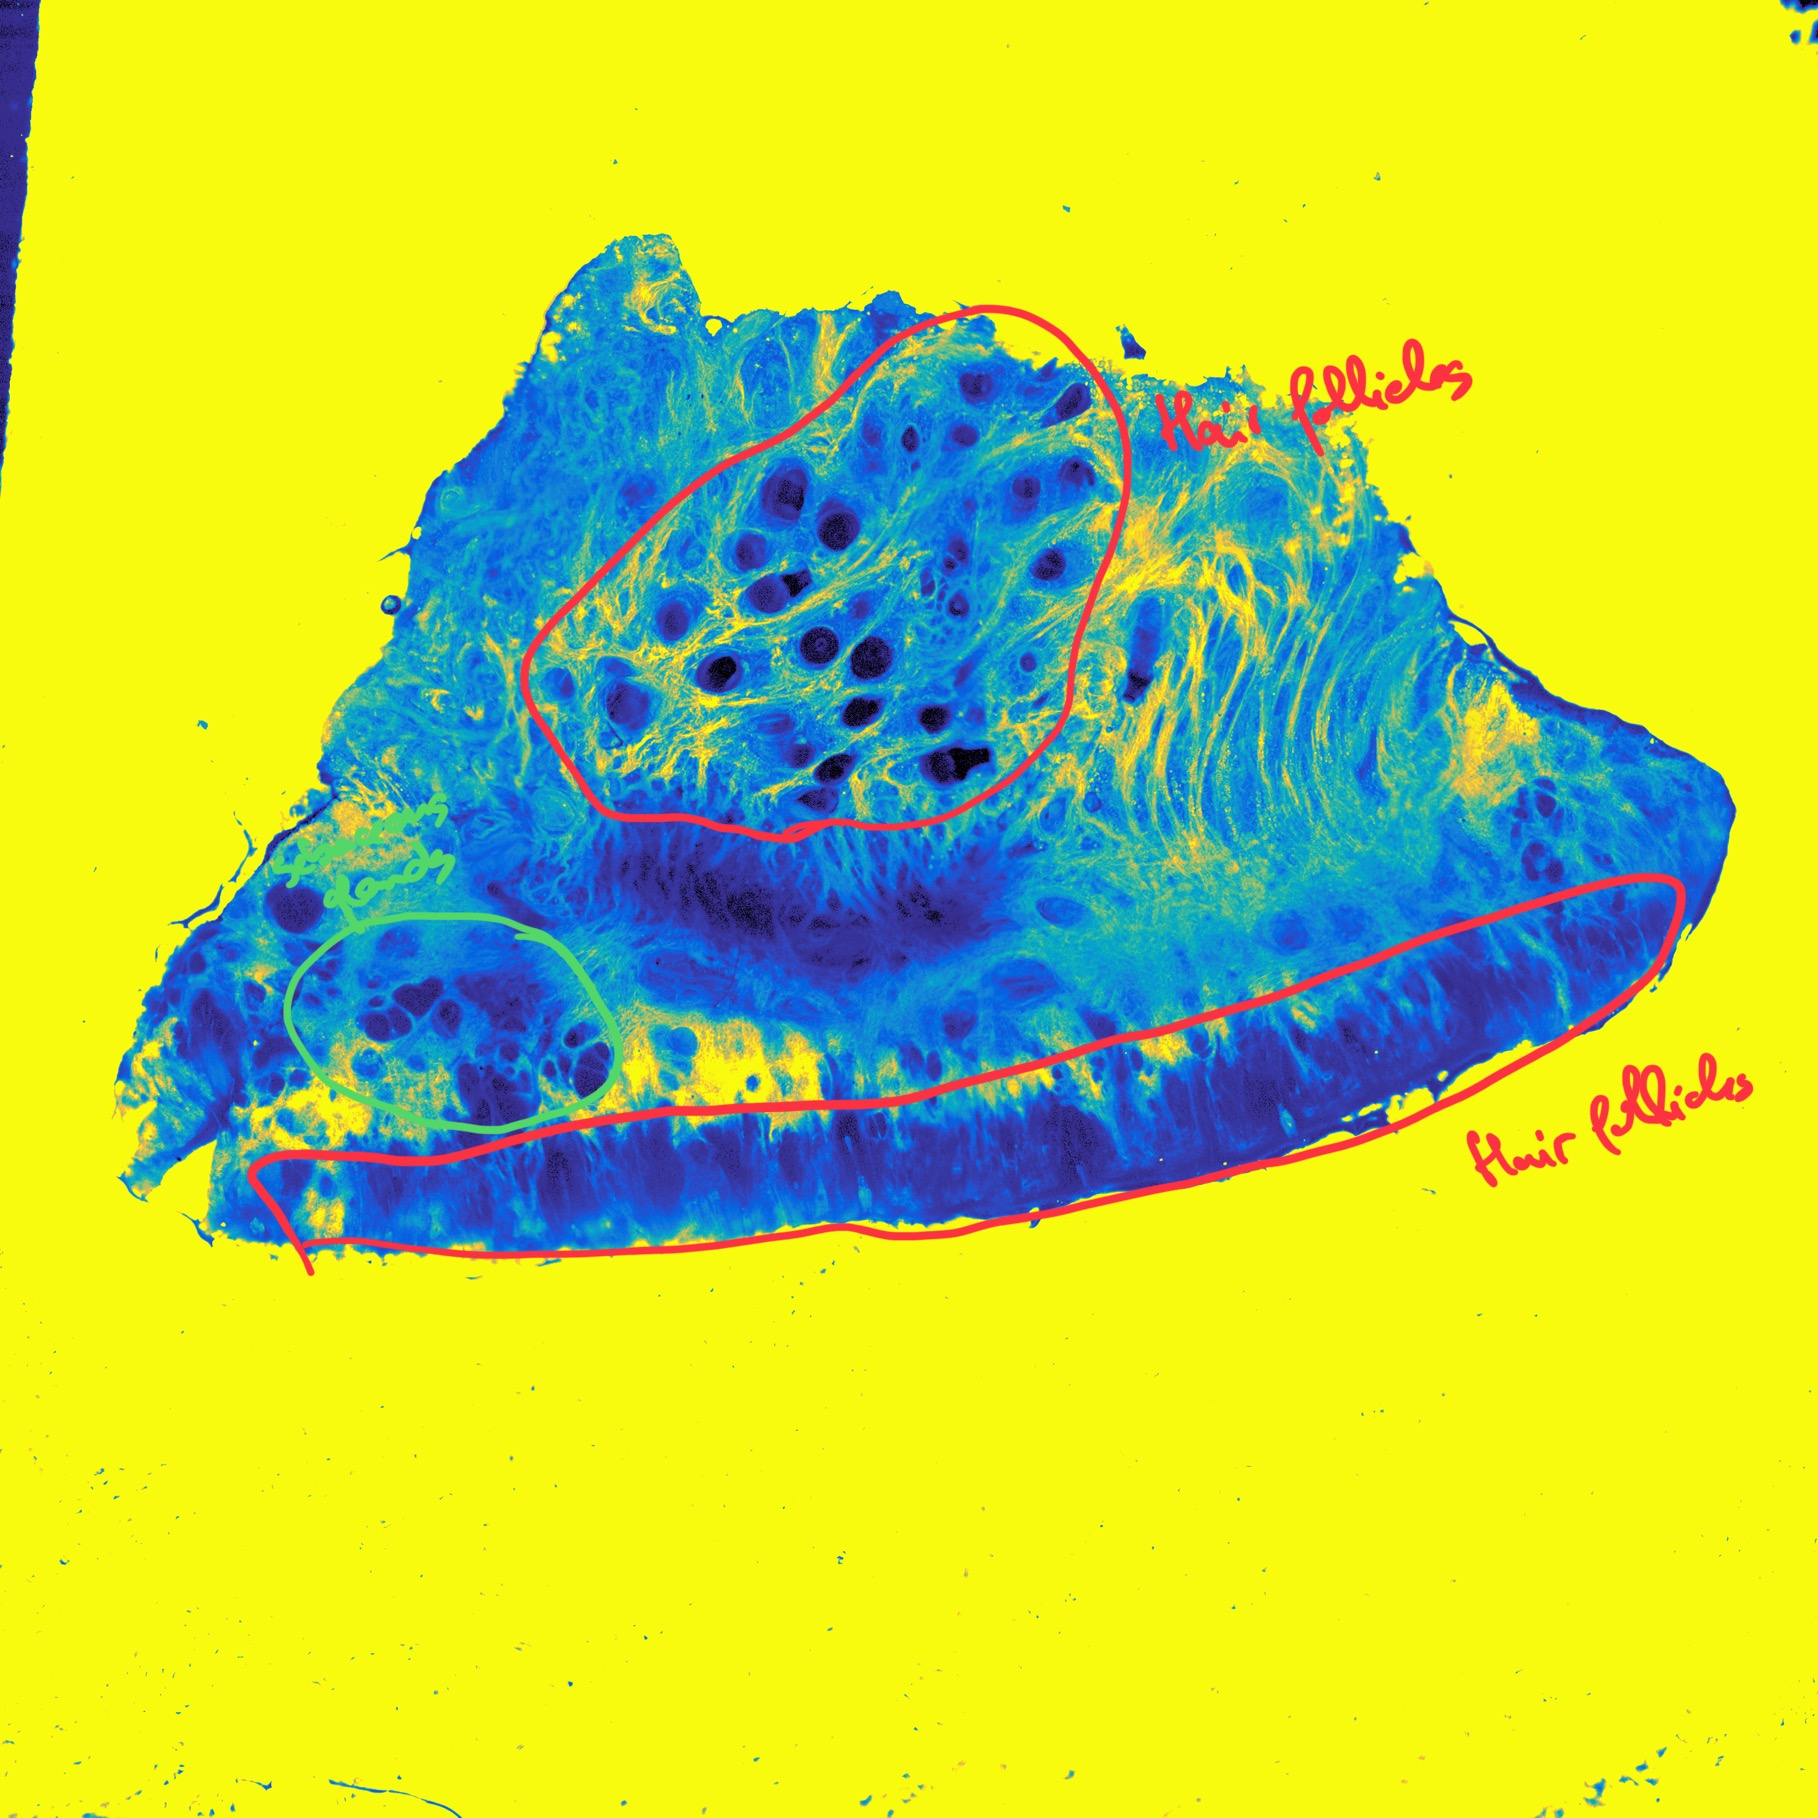HF: (584, 653, 669, 744), (749, 453, 817, 539), (916, 736, 1004, 791), (736, 563, 827, 614), (679, 644, 757, 703), (811, 489, 872, 563), (718, 521, 784, 583), (1046, 445, 1110, 506), (839, 631, 902, 693), (951, 360, 1007, 421), (831, 688, 894, 738), (1021, 539, 1075, 594), (889, 415, 932, 481), (648, 593, 699, 648), (807, 743, 862, 792), (792, 624, 847, 673), (929, 538, 982, 583), (937, 586, 984, 634), (1002, 466, 1047, 516), (906, 703, 957, 738), (944, 415, 986, 458), (541, 666, 578, 709), (1012, 649, 1051, 679)
